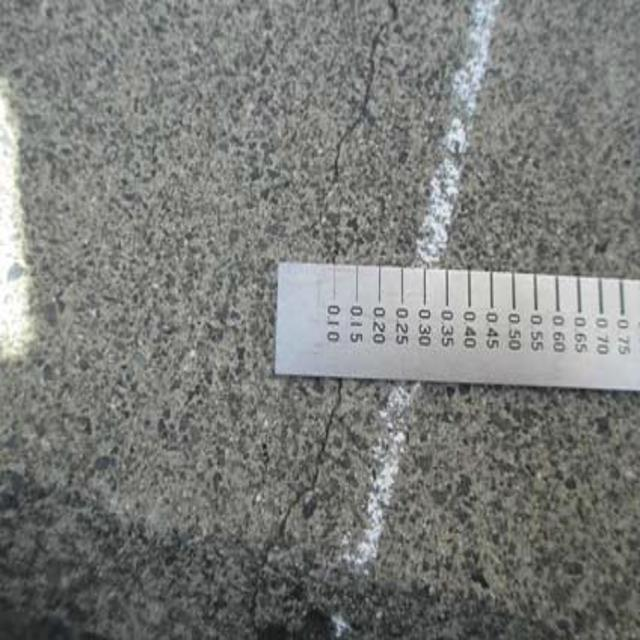crack: (224, 370, 346, 629), (312, 2, 404, 264)
